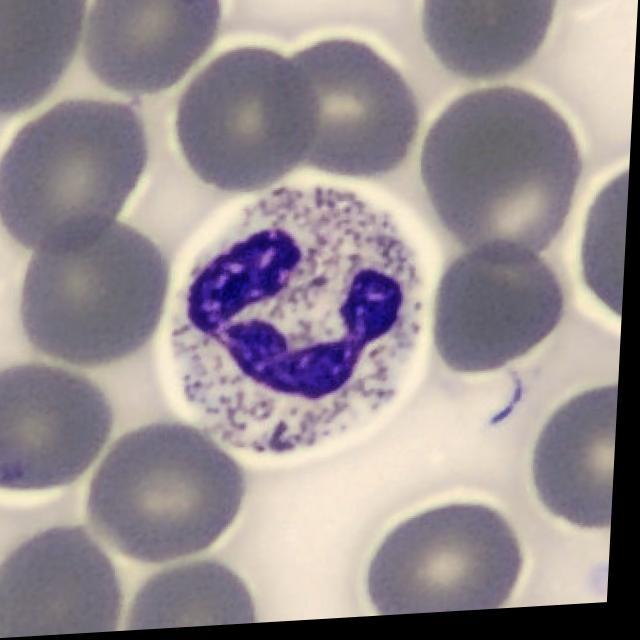Neutrofilo segmentado: (159, 170, 437, 471)
